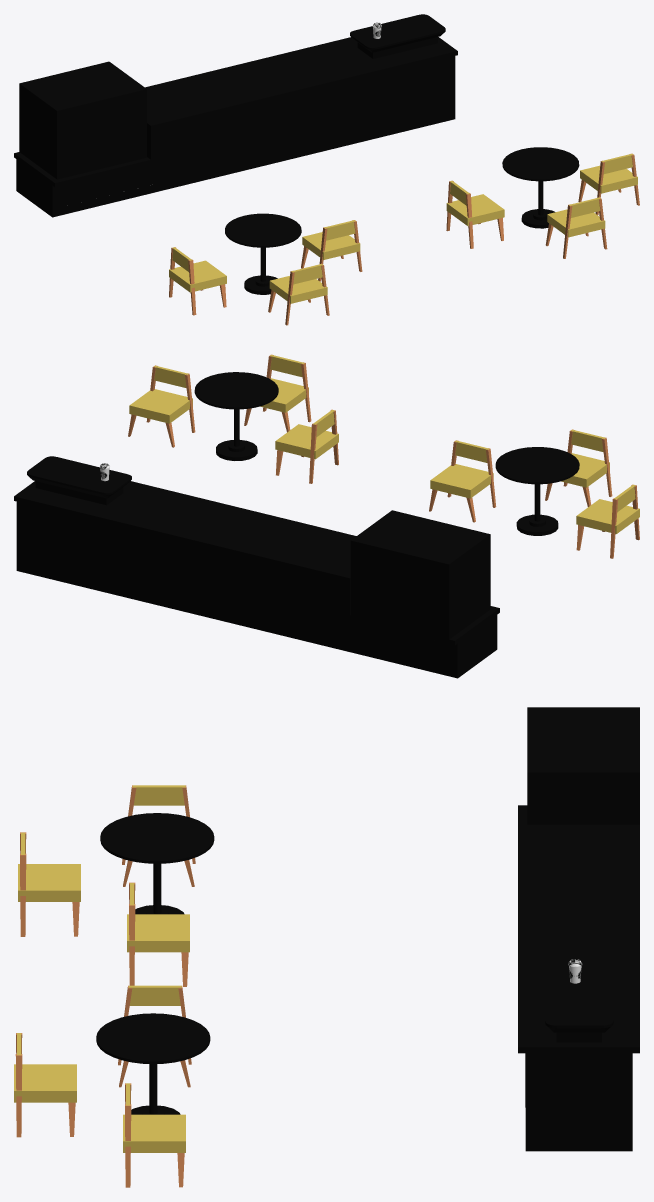
File: coffee_scene.obj
3 views of the same model, one above another, from view 1: azimuth 30°, elevation 25°; view 2: azimuth 150°, elevation 25°; view 3: azimuth 270°, elevation 25° (orthographic). The views are drawn at different scales.
Visible parts, largest first — view 1: Object003, Line001, Object001, Object, Rectangle003, Cylinder001, Cylinder005, Box010, Box012, Box001, Box016, Box014 (+8 smaller); view 2: Object003, Line001, Object001, Object, Rectangle003, Cylinder001, Cylinder005, Box007, Box016, Box010, Box014, Box008 (+10 smaller); view 3: Line001, Object001, Object003, Cylinder001, Cylinder005, Rectangle003, Box010, Box012, Box016, Box001, Object, Box007 (+6 smaller).
Part boxes in pixels (box(x1,y1,x2,y2)): Object003: box(16, 56, 455, 208); Line001: box(14, 37, 457, 187); Object001: box(20, 62, 145, 177); Object: box(16, 111, 455, 217); Rectangle003: box(350, 14, 445, 58); Cylinder001: box(225, 22, 381, 247); Cylinder005: box(502, 147, 579, 181); Box010: box(302, 220, 360, 259); Box012: box(547, 197, 605, 237); Box001: box(269, 264, 327, 303); Box016: box(580, 153, 637, 193); Box014: box(446, 180, 504, 225); Object003: box(16, 501, 497, 669); Line001: box(14, 481, 499, 645); Object001: box(353, 511, 489, 636); Object: box(16, 562, 497, 678); Rectangle003: box(27, 456, 131, 505); Cylinder001: box(99, 447, 579, 484); Cylinder005: box(194, 372, 278, 409); Box007: box(350, 510, 490, 639); Box016: box(129, 365, 192, 423); Box010: box(430, 440, 493, 498); Box014: box(275, 410, 338, 459); Box008: box(576, 484, 639, 533); Line001: box(518, 805, 639, 1053); Object001: box(530, 708, 636, 824); Object003: box(525, 1053, 632, 1138); Cylinder001: box(100, 813, 582, 983); Cylinder005: box(96, 1013, 210, 1064); Rectangle003: box(545, 968, 613, 1042); Box010: box(127, 883, 189, 952); Box012: box(14, 1033, 76, 1102); Box016: box(123, 1083, 185, 1152); Box001: box(18, 832, 80, 901); Object: box(525, 1053, 632, 1151); Box007: box(527, 707, 639, 824).
Bounding box in the file's own units: 5.74 × 1.27 × 4.62.
Materials: 4 (1 with a texture image).
